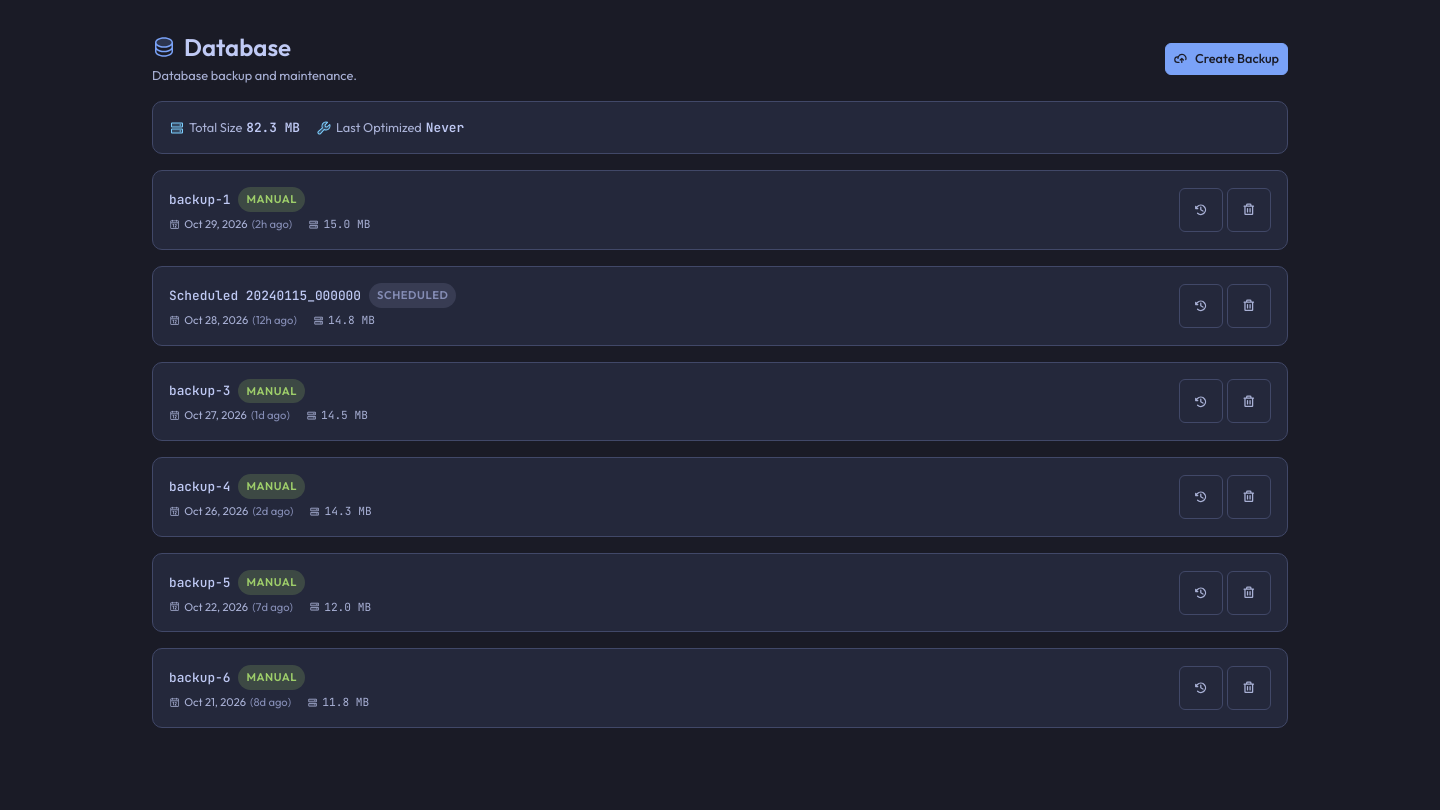
BackupsPage restore dialog › shows backup details in restore dialog
Click the button named "restore from backup-1": (1201, 210) [1179,188,1223,232]
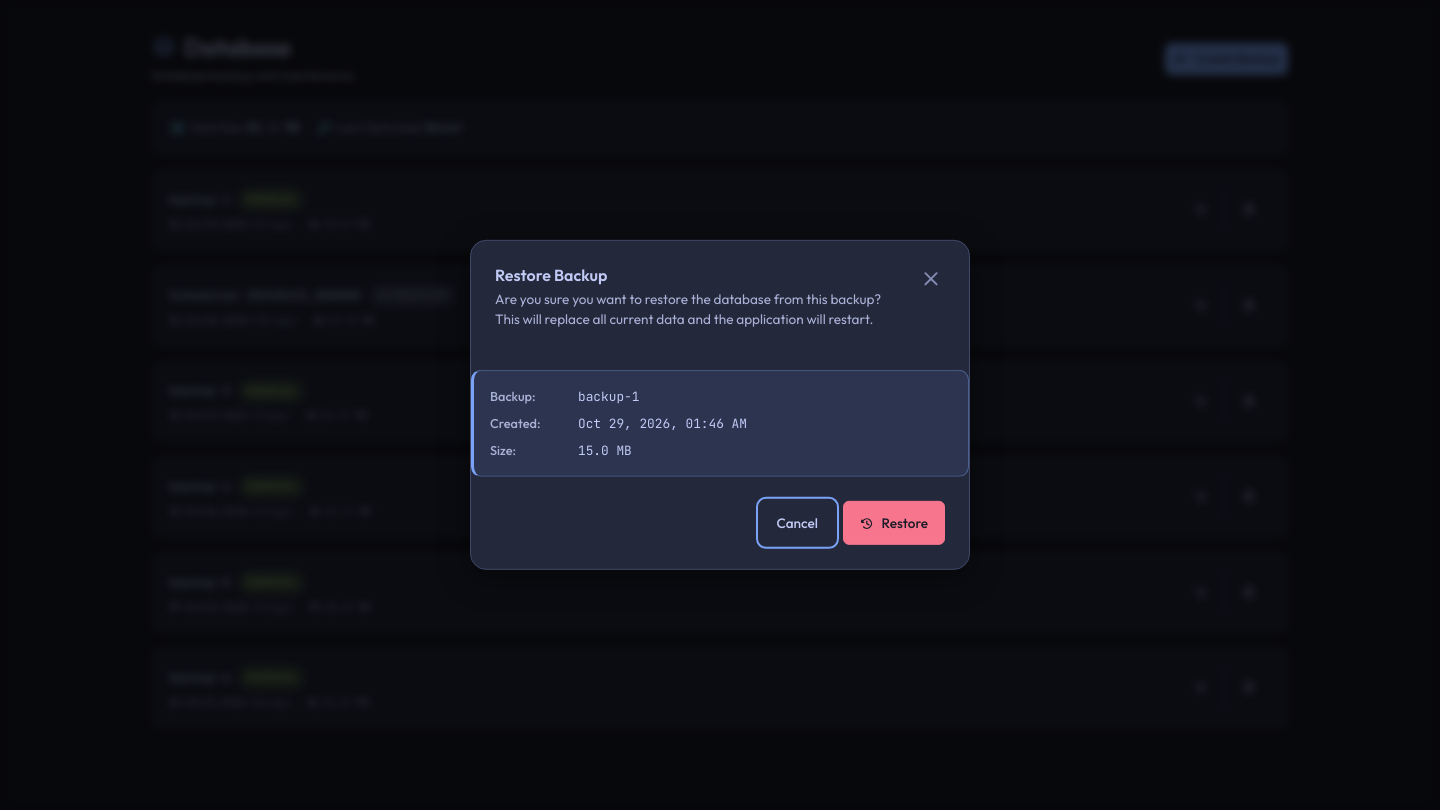
Result: the dialog is shown at [470,240,970,570]
Result: the text "backup-1" is shown at [578,387,639,406]
Result: the dialog shows "MB" at [578,442,632,459]
